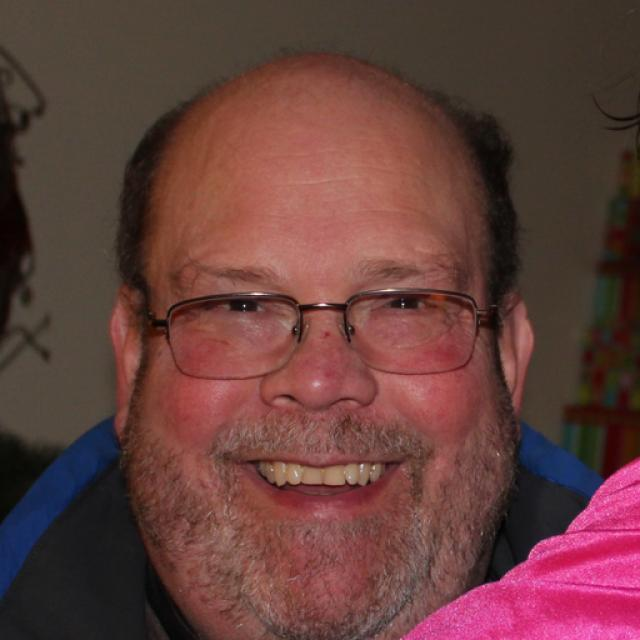Pigmentation: (151, 336, 260, 429), (391, 334, 488, 430)
